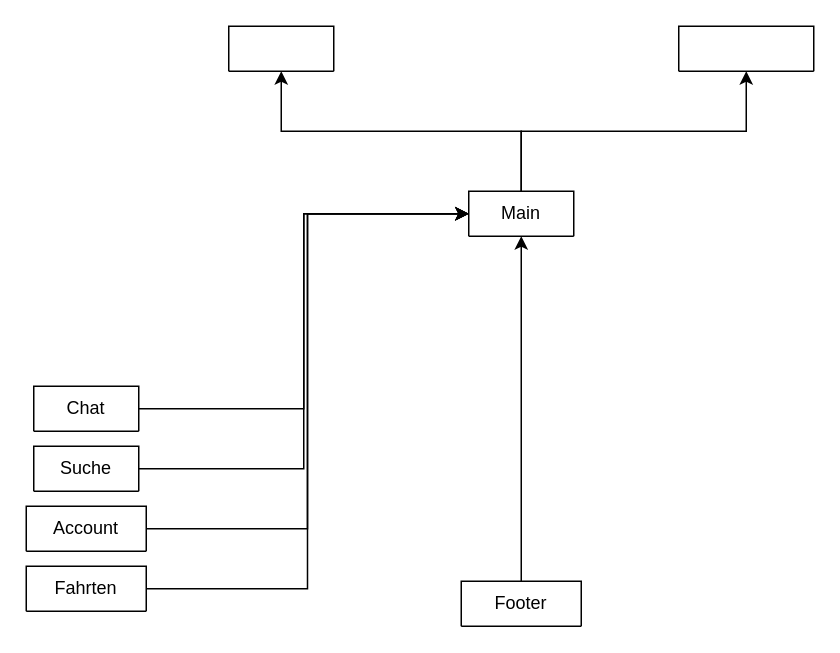
Image size: 840x653. Some labels were removed from this diagram. The centre of each missing label's shape, as x and y in pixels:
Login: [280,48]
Register: [745,48]
